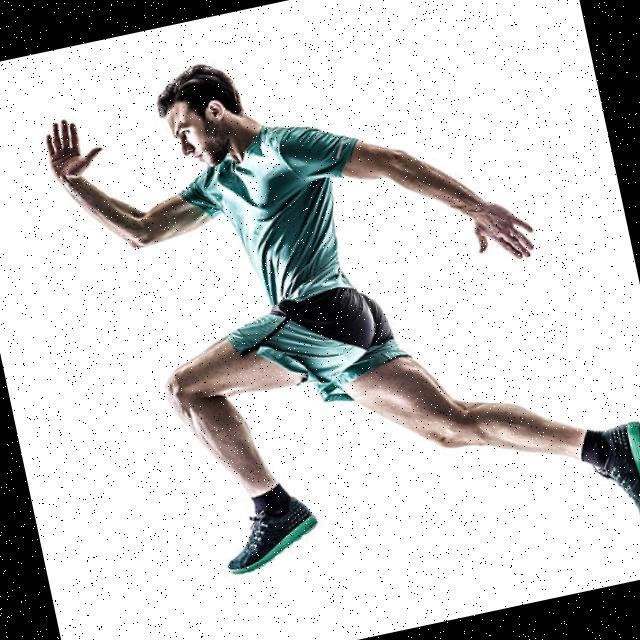Person: (38, 0, 640, 629)
